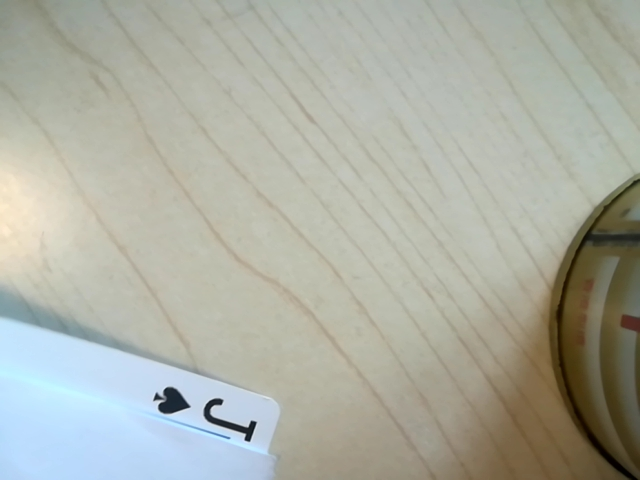ht j: (134, 379, 277, 451)
